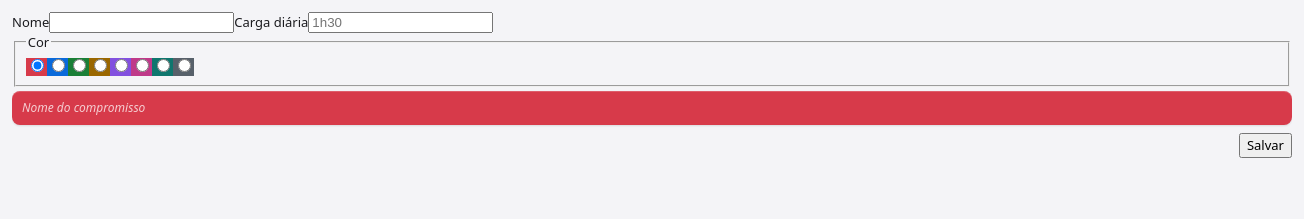
Scenario: commitment form › shows an error and creates nothing when the daily load exceeds the day
Type "TRABALHO" into the field labelled "Nome" at point(142, 22), box [49,12,234,33]
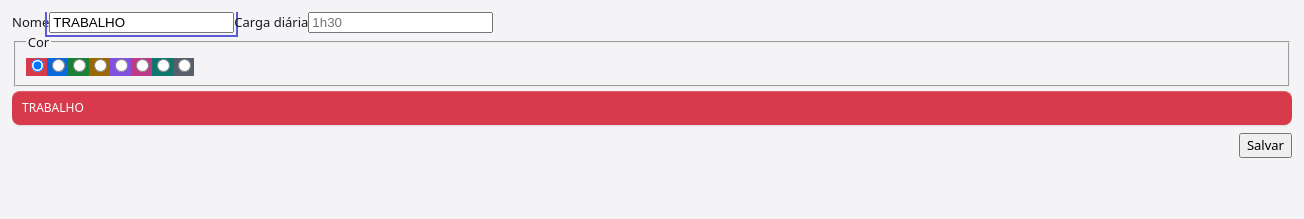
Type "24" into the field labelled "Carga diária" at point(401, 22), box [308,12,493,33]
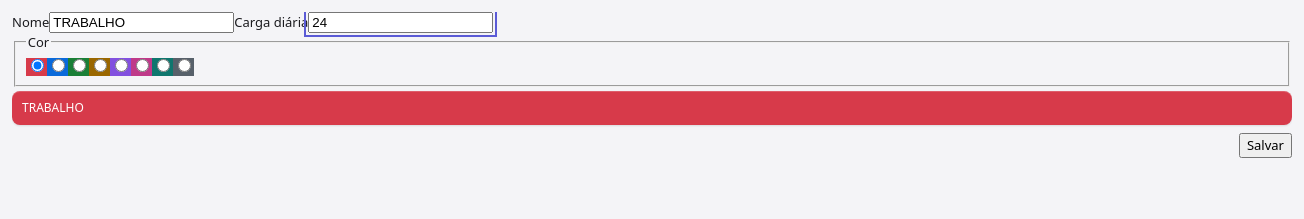
Click the button "Salvar" at point(1265, 145), box [1239,133,1292,158]
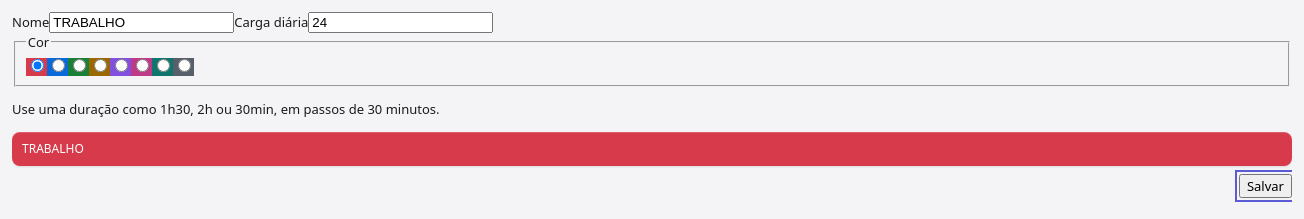
Result: the message "Use uma duração como 1h30, 2h ou 30min, em passos de 30 minutos." is shown at [12,100,440,118]
